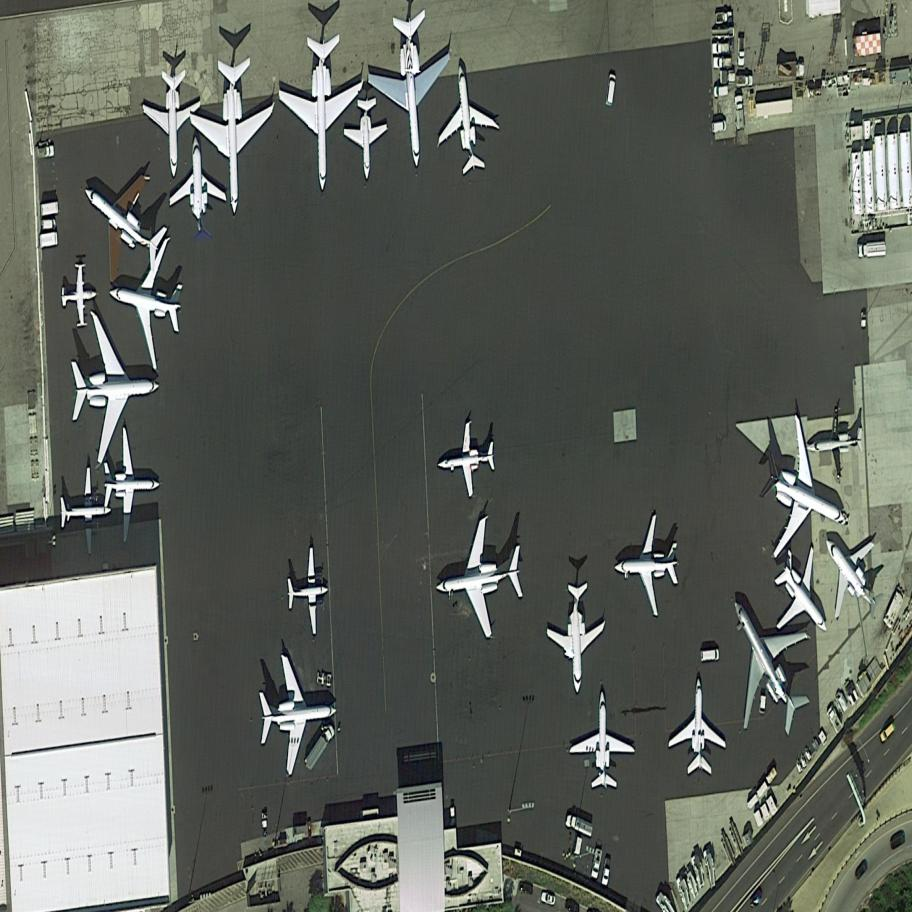large-vehicle: (298, 721, 340, 773), (562, 814, 597, 839), (857, 241, 886, 259), (733, 94, 746, 132)
plane: (682, 552, 846, 777), (742, 397, 877, 595), (86, 202, 209, 406), (358, 1, 462, 177), (744, 520, 858, 671), (791, 497, 907, 645), (66, 298, 162, 472), (271, 29, 369, 197), (187, 54, 278, 215), (431, 509, 528, 649), (255, 643, 340, 783), (429, 57, 507, 185), (542, 578, 610, 697), (567, 687, 637, 796), (612, 512, 682, 619), (139, 69, 202, 179), (102, 423, 160, 542), (667, 678, 727, 777), (56, 462, 113, 558), (166, 134, 226, 223), (437, 415, 498, 502), (802, 400, 864, 485), (284, 544, 330, 645), (342, 99, 391, 184), (60, 263, 97, 330)
small-vehicle: (876, 720, 901, 744), (746, 886, 768, 909), (886, 832, 909, 852), (604, 74, 617, 107), (590, 848, 603, 879), (601, 854, 612, 887), (517, 879, 537, 897), (852, 860, 870, 880), (539, 889, 559, 906), (699, 647, 720, 663), (35, 145, 57, 160), (712, 41, 733, 55), (737, 36, 745, 66), (713, 84, 730, 98), (713, 58, 732, 70), (736, 75, 754, 86), (711, 120, 727, 132), (40, 219, 56, 230)
